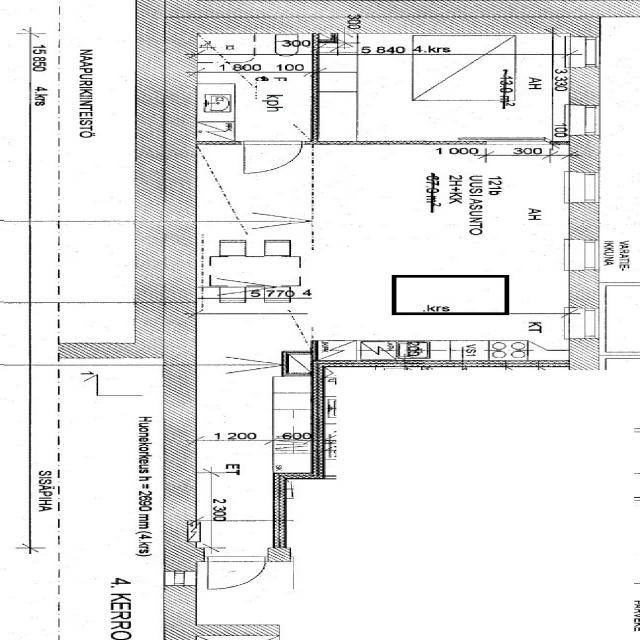door: (207, 556, 264, 591), (243, 141, 302, 174)
